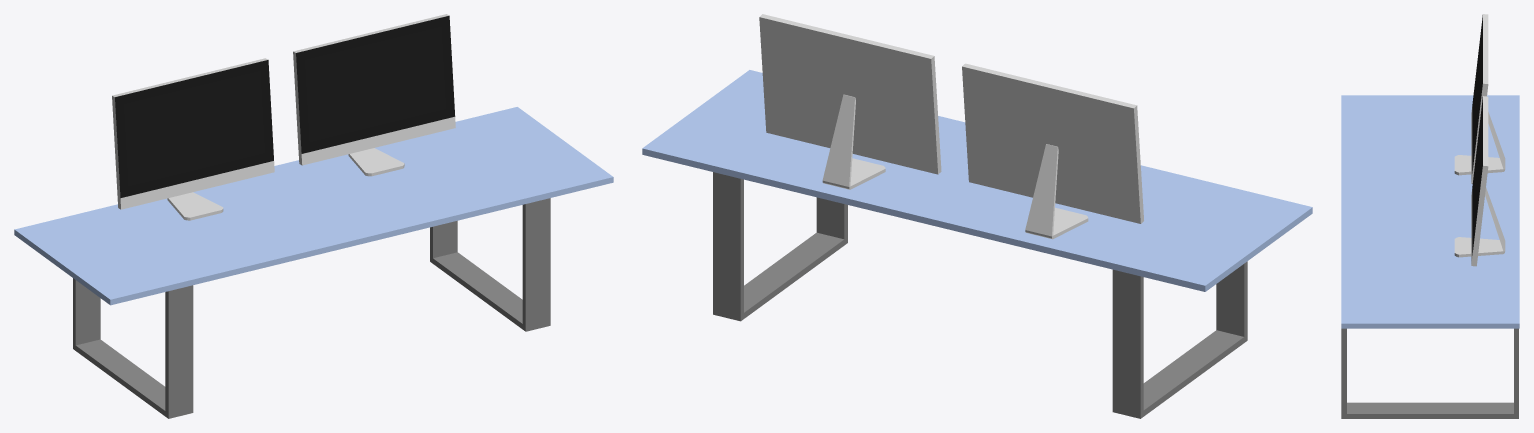
Rendered from uploads_files_3871381_Mesa+de+vidro.fbx.
3 views of the same model, side by side, from view 1: azimuth 30°, elevation 25°; view 2: azimuth 150°, elevation 25°; view 3: azimuth 270°, elevation 25° (orthographic). The views are drawn at different scales.
Parts seen in each view (by area): view 1: Mesa, Tela_monitor, Tela_monitor.001, Pe_Mesa, Base_monitor.001, Base_monitor; view 2: Mesa, Tela_monitor, Tela_monitor.001, Pe_Mesa, Base_monitor.001, Base_monitor; view 3: Mesa, Pe_Mesa, Tela_monitor.001, Tela_monitor, Base_monitor.001, Base_monitor.
Boxes of the visible parts, left/top/right/bottom form: Mesa: left=14, top=107, right=613, bottom=305; Tela_monitor: left=112, top=58, right=274, bottom=209; Tela_monitor.001: left=293, top=14, right=455, bottom=165; Pe_Mesa: left=73, top=198, right=550, bottom=418; Base_monitor.001: left=348, top=148, right=404, bottom=176; Base_monitor: left=167, top=192, right=223, bottom=220; Mesa: left=642, top=70, right=1312, bottom=291; Tela_monitor: left=962, top=63, right=1143, bottom=223; Tela_monitor.001: left=759, top=14, right=941, bottom=174; Pe_Mesa: left=713, top=172, right=1247, bottom=418; Base_monitor.001: left=822, top=94, right=885, bottom=189; Base_monitor: left=1025, top=144, right=1088, bottom=239; Mesa: left=1341, top=95, right=1519, bottom=328; Pe_Mesa: left=1341, top=328, right=1518, bottom=418; Tela_monitor.001: left=1471, top=96, right=1488, bottom=266; Tela_monitor: left=1471, top=14, right=1488, bottom=183; Base_monitor.001: left=1454, top=187, right=1505, bottom=257; Base_monitor: left=1454, top=112, right=1505, bottom=175.
Bounding box in the file's own units: 402 × 199 × 133.
